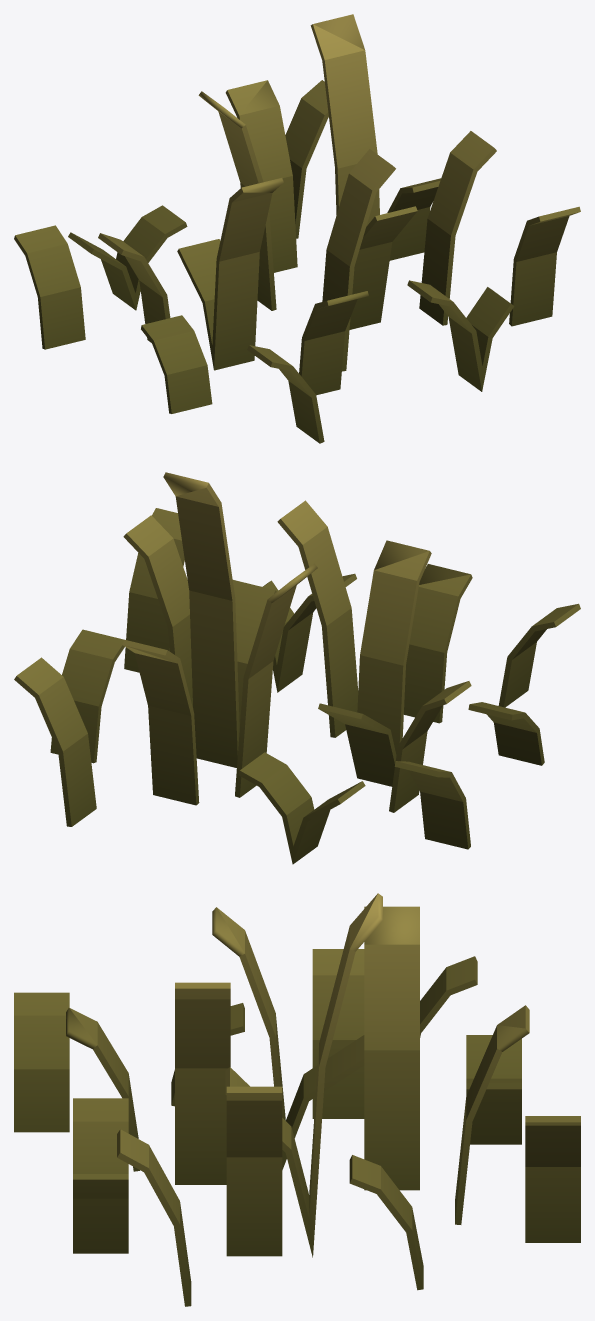
File: kenney-dry-grass.glb
The picture shows the model from 3 angles, top to bottom: view 1: azimuth 30°, elevation 25°; view 2: azimuth 150°, elevation 25°; view 3: azimuth 270°, elevation 25°; orthographic projection. The views are drawn at different scales.
Visible parts, largest first — view 1: KenneyDryGrass; view 2: KenneyDryGrass; view 3: KenneyDryGrass.
Boxes of the visible parts, left/top/right/bottom form: KenneyDryGrass: left=14, top=14, right=580, bottom=443; KenneyDryGrass: left=14, top=472, right=580, bottom=864; KenneyDryGrass: left=14, top=893, right=580, bottom=1306.
Size of the model in its own units: 0.7085 by 0.4701 by 0.7066.
